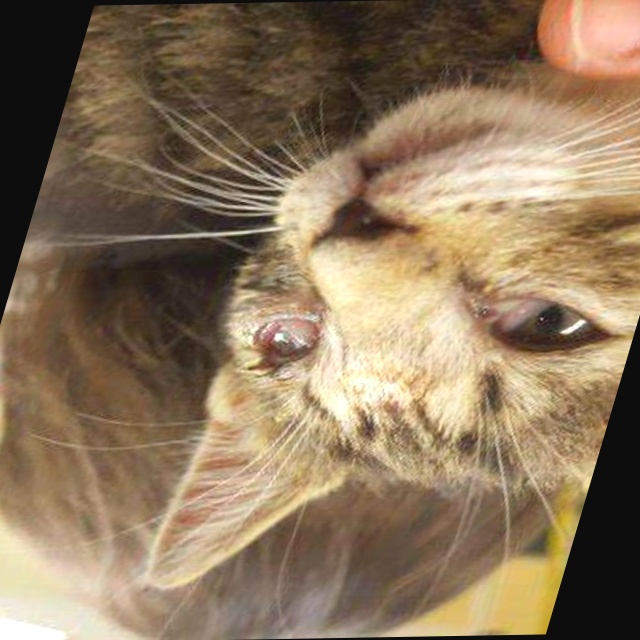eye_infection: (467, 288, 624, 356), (234, 303, 337, 372)
